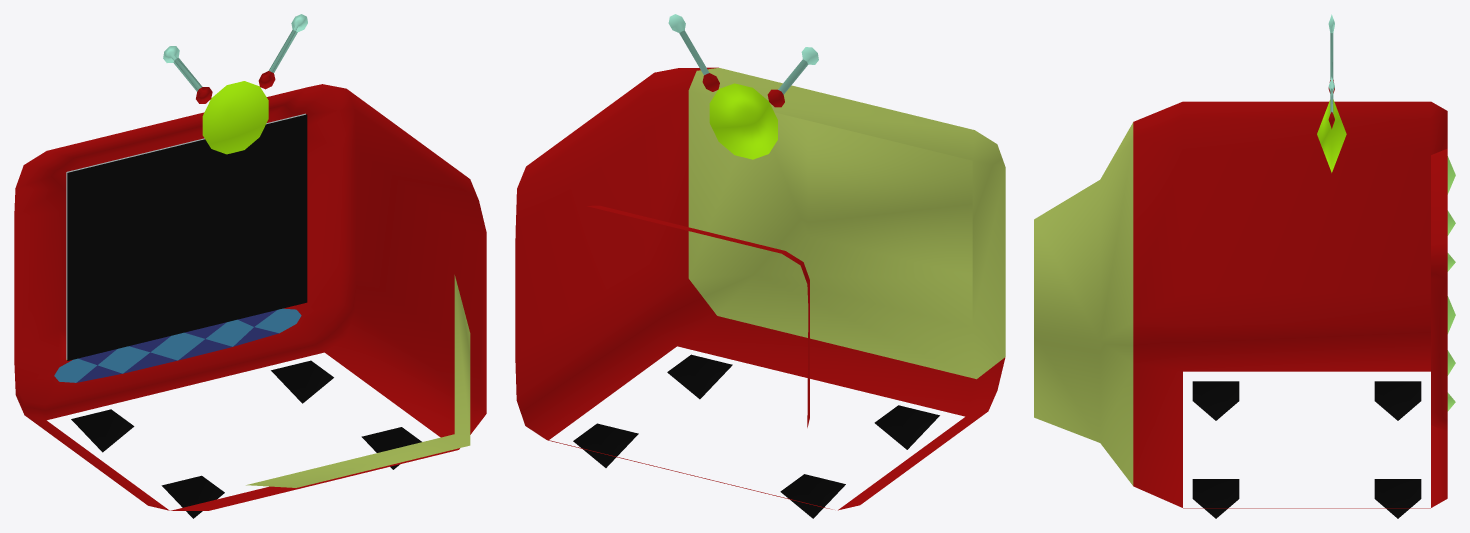
Rendered from ps2_save-icons_parappatherapper2replay6.glb.
The picture shows the model from 3 angles, left to right: view 1: azimuth 30°, elevation 25°; view 2: azimuth 150°, elevation 25°; view 3: azimuth 270°, elevation 25°; orthographic projection. The views are drawn at different scales.
Visible parts, largest first — view 1: icon1.ico; view 2: icon1.ico; view 3: icon1.ico.
Part boxes in pixels (x1,y1,x2,y2): icon1.ico: (14, 14, 486, 518); icon1.ico: (515, 14, 1005, 518); icon1.ico: (1034, 14, 1455, 518).
Size of the model in its own units: 4.19 by 4.95 by 4.46.
Materials: 1 (1 with a texture image).
